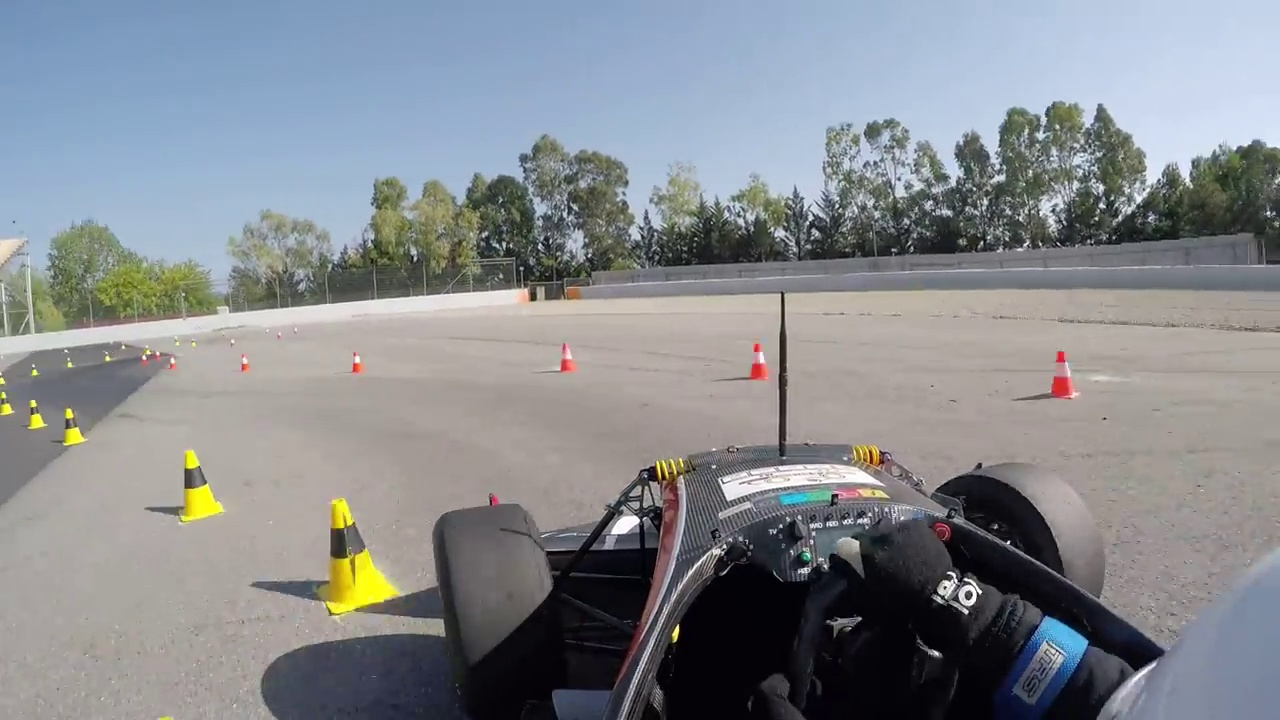Cone: (317, 499, 398, 613), (175, 447, 226, 522), (1048, 349, 1080, 398), (59, 406, 88, 447), (23, 395, 49, 434), (747, 343, 771, 382), (558, 341, 581, 372)
